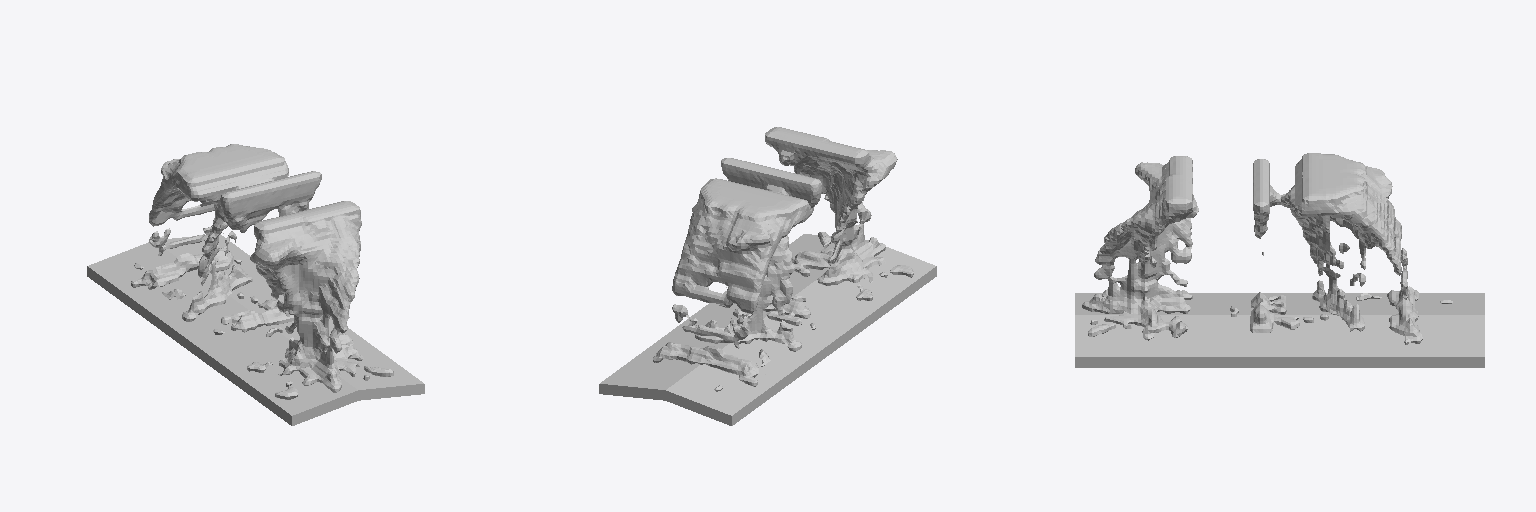
File: Watersim_000024.obj
3 views of the same model, side by side, from view 1: azimuth 30°, elevation 25°; view 2: azimuth 150°, elevation 25°; view 3: azimuth 270°, elevation 25° (orthographic).
Visible parts, largest first — view 1: Domain_Cube.006, Straße_Cube.007; view 2: Domain_Cube.006, Straße_Cube.007; view 3: Domain_Cube.006, Straße_Cube.007.
Boxes of the visible parts, x1,y1,x2,y2 form: Domain_Cube.006: [131, 144, 393, 399]; Straße_Cube.007: [87, 234, 424, 425]; Domain_Cube.006: [653, 127, 913, 391]; Straße_Cube.007: [599, 234, 936, 425]; Domain_Cube.006: [1082, 153, 1452, 344]; Straße_Cube.007: [1075, 293, 1484, 367].
Bounding box in the file's own units: 2.26 × 2.59 × 6.06.